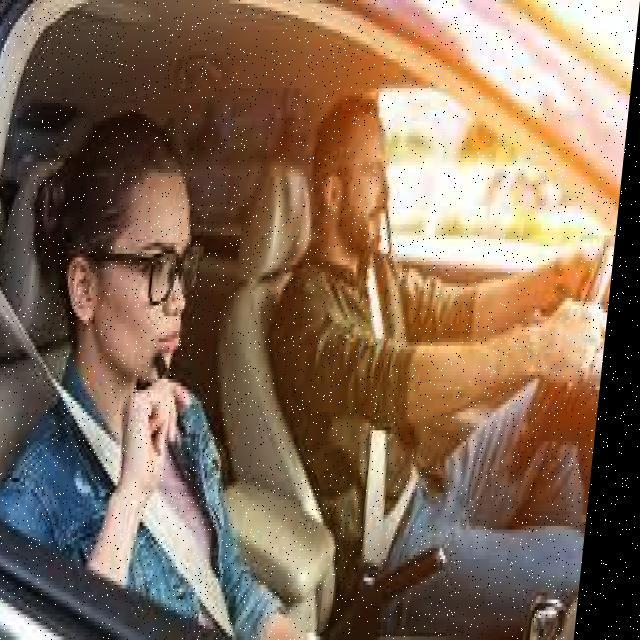seatbelt: (16, 265, 271, 640), (306, 237, 456, 607)
